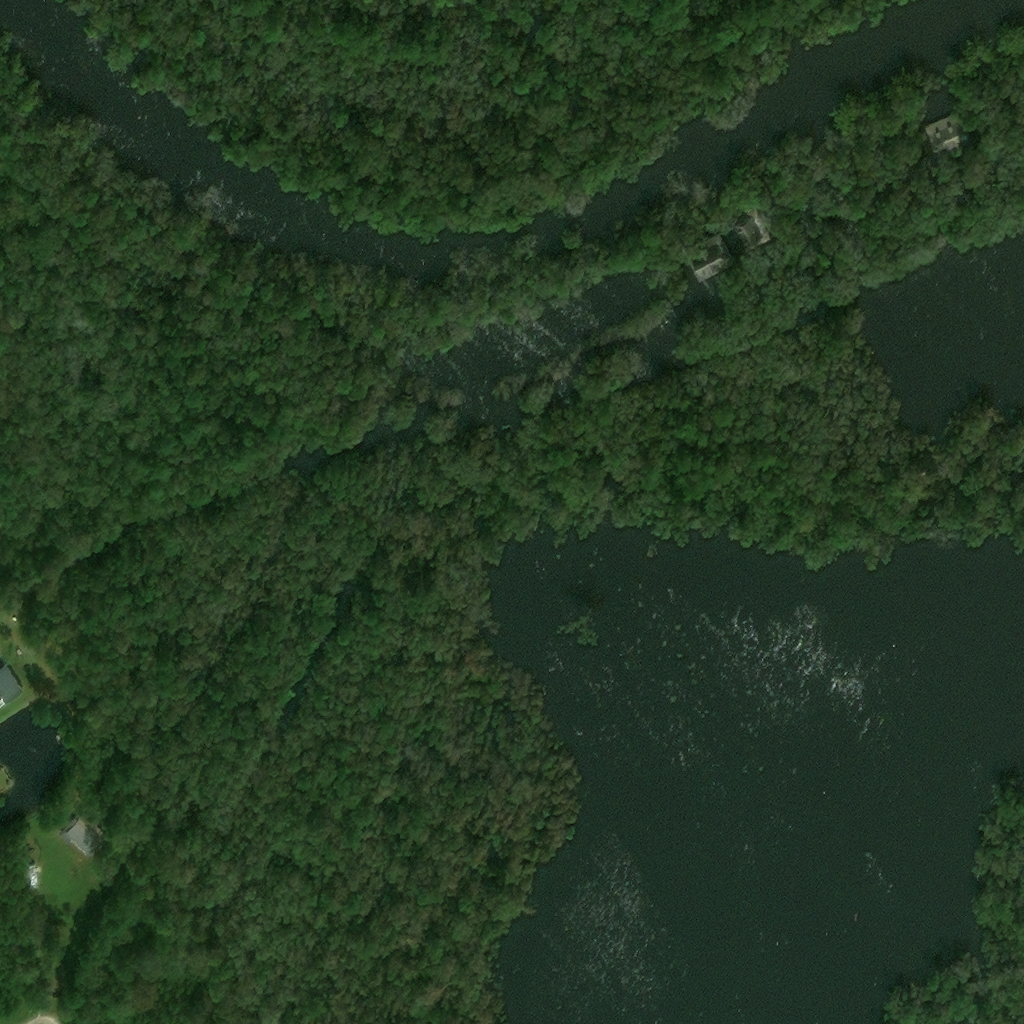major_damage: (680, 231, 731, 280), (731, 206, 768, 246), (922, 112, 961, 149), (0, 664, 22, 709)
no_damage: (58, 815, 107, 858), (25, 864, 38, 886)
unclassified: (970, 163, 988, 183)
